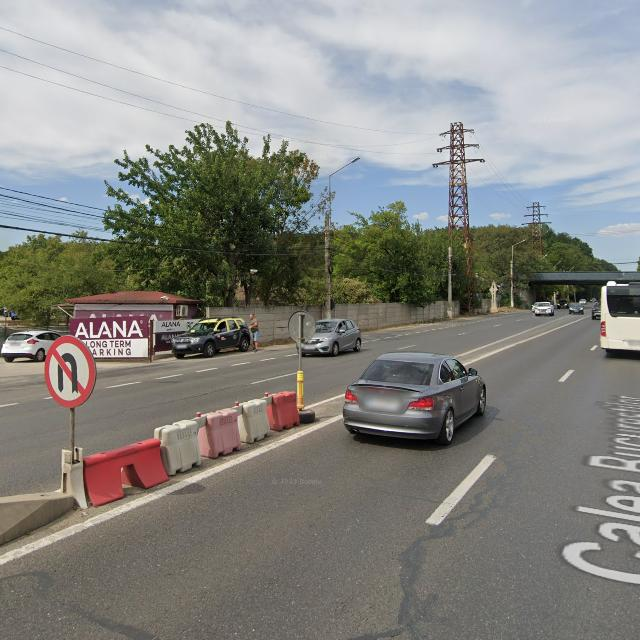forb_u_turn: (44, 334, 96, 408)
